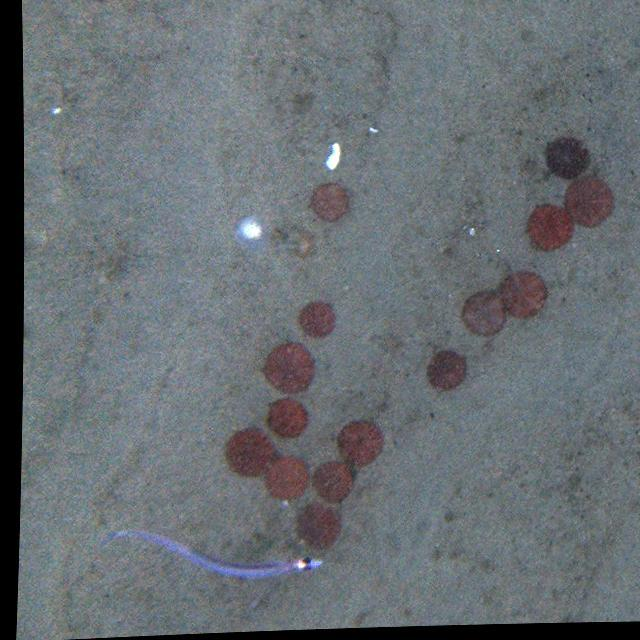roundfish: (105, 523, 322, 583)
